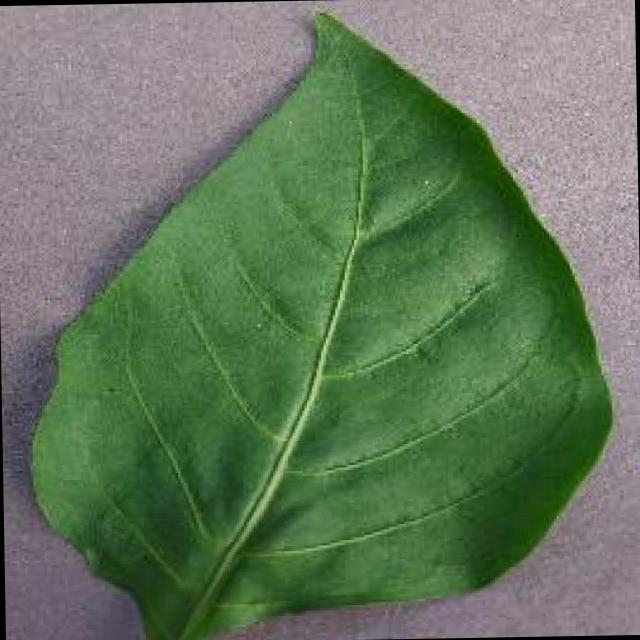Chilli_Healthy: (20, 0, 618, 640)
